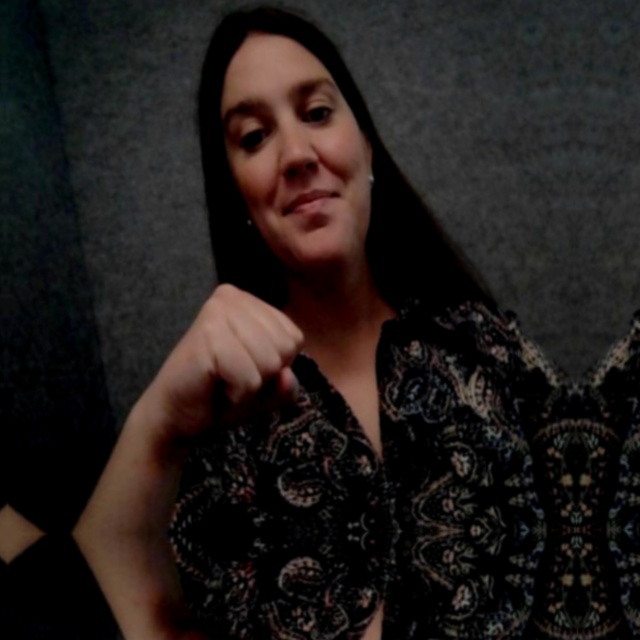Rock: (123, 265, 337, 477)
